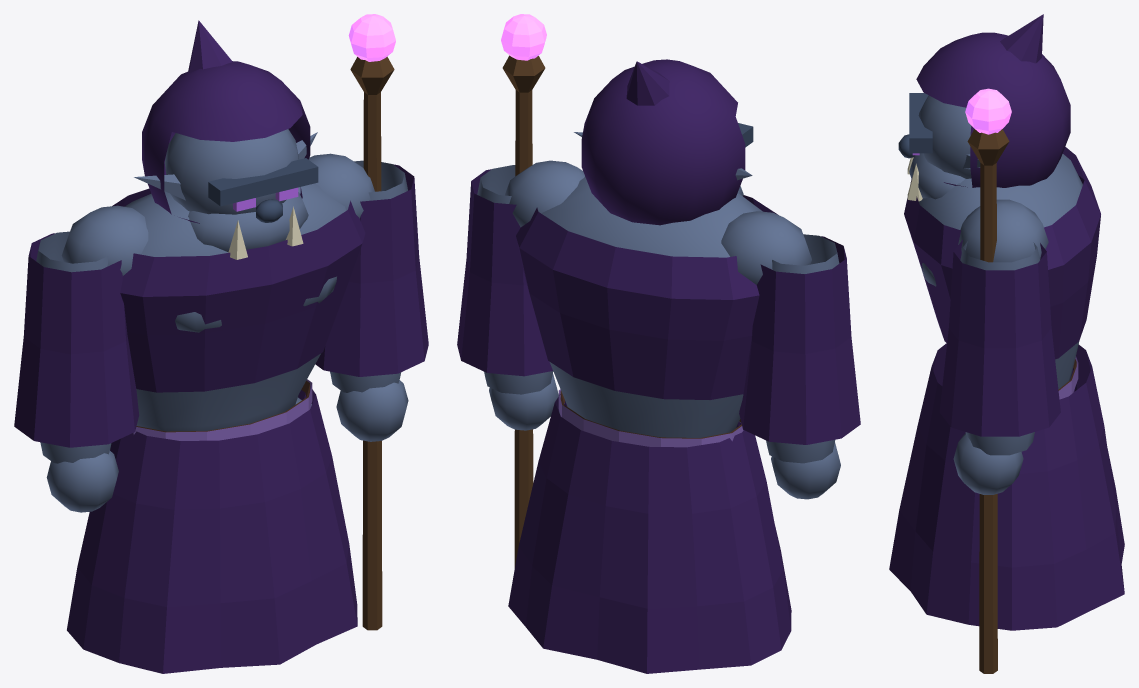
Rendered from orc_warlock.glb.
3 renders of one model, left to right at view 1: azimuth 30°, elevation 25°; view 2: azimuth 150°, elevation 25°; view 3: azimuth 270°, elevation 25°, orthographic. The views are drawn at different scales.
Visible parts, largest first — view 1: Body, ArmR, Head, ArmL; view 2: Body, ArmL, Head, ArmR; view 3: Body, ArmR, Head.
Boxes of the visible parts, x1,y1,x2,y2 form: Body: (61, 153, 374, 673); ArmR: (315, 14, 428, 630); Head: (134, 20, 318, 259); ArmL: (14, 231, 139, 512); Body: (505, 160, 811, 673); ArmL: (739, 234, 860, 499); Head: (574, 59, 753, 225); ArmR: (457, 14, 558, 567); Body: (889, 147, 1124, 630); ArmR: (939, 88, 1060, 673); Head: (898, 14, 1070, 201).
Bounding box in the file's own units: 1.85 × 2.79 × 1.01.
